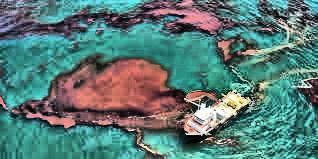truecolor: (25, 58, 188, 130), (0, 0, 238, 40)
